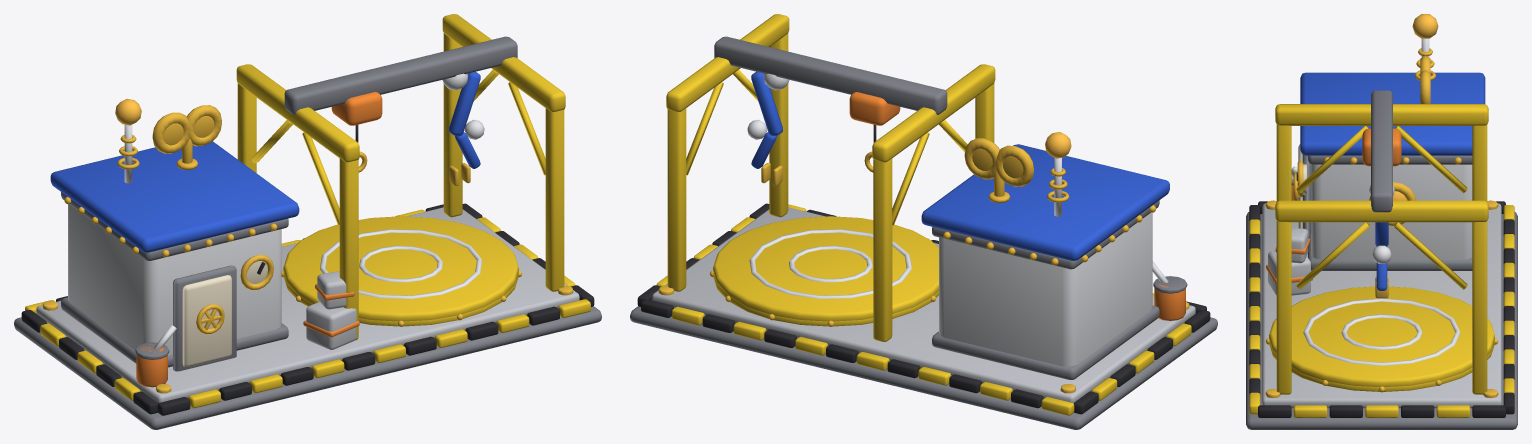
File: Bestiary.glb
The picture shows the model from 3 angles, left to right: view 1: azimuth 30°, elevation 25°; view 2: azimuth 150°, elevation 25°; view 3: azimuth 270°, elevation 25°; orthographic projection. The views are drawn at different scales.
Parts seen in each view (by area): view 1: Bestiary; view 2: Bestiary; view 3: Bestiary.
Part boxes in pixels (box(x1,y1,x2,y2)): Bestiary: box(14, 14, 601, 429); Bestiary: box(630, 14, 1217, 429); Bestiary: box(1246, 14, 1517, 429).
Bounding box in the file's own units: 4.6 × 2.42 × 2.5.
